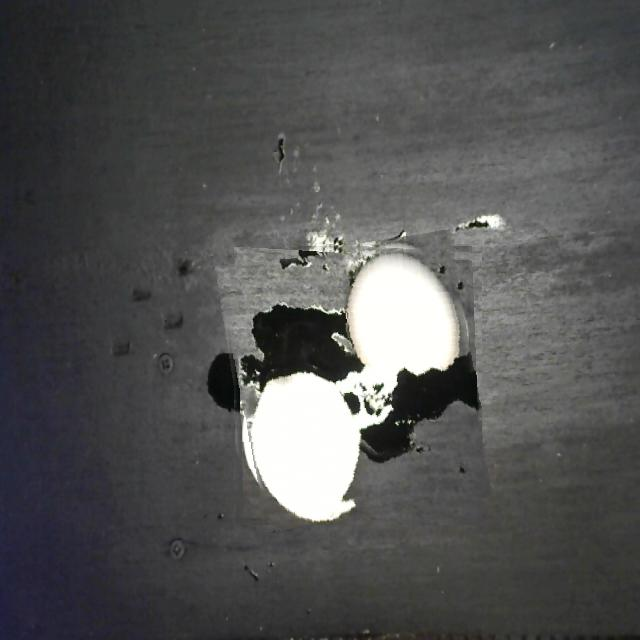biodegradable: (225, 238, 482, 525)
